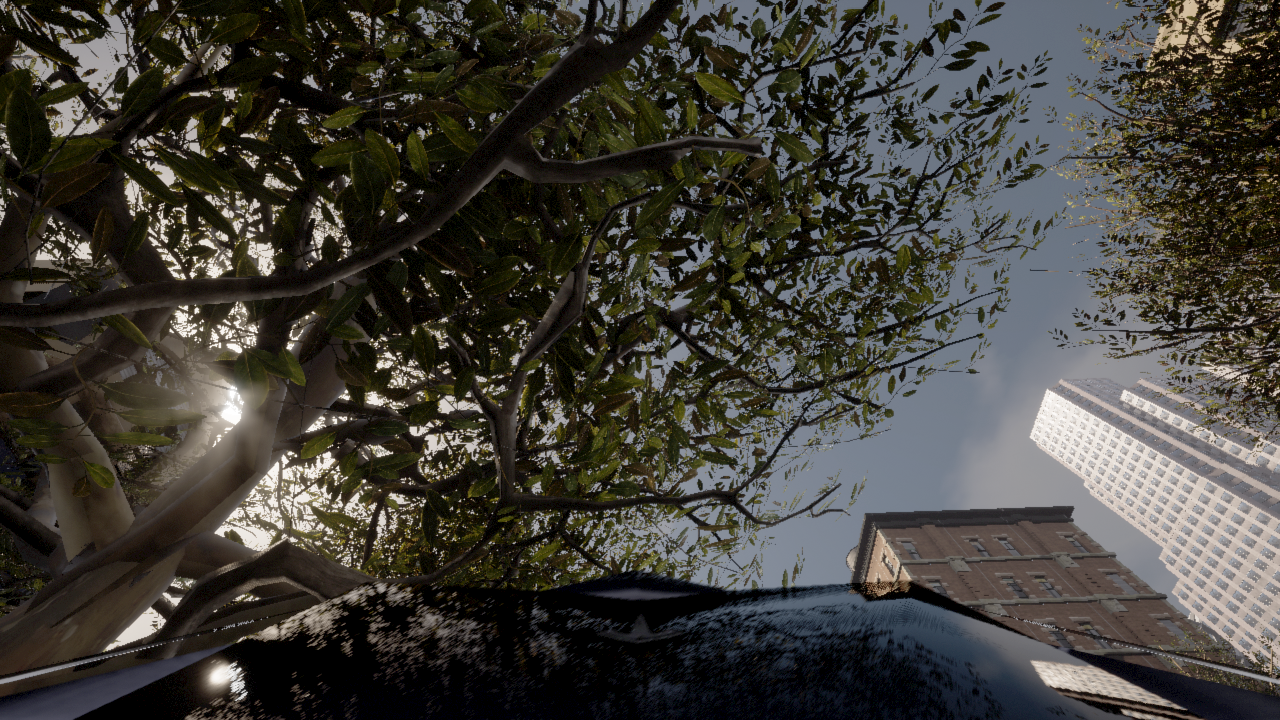cyclist: (0, 569, 1279, 719)
